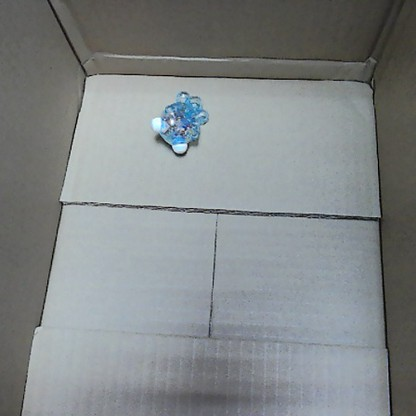bluefish: (148, 87, 209, 160)
